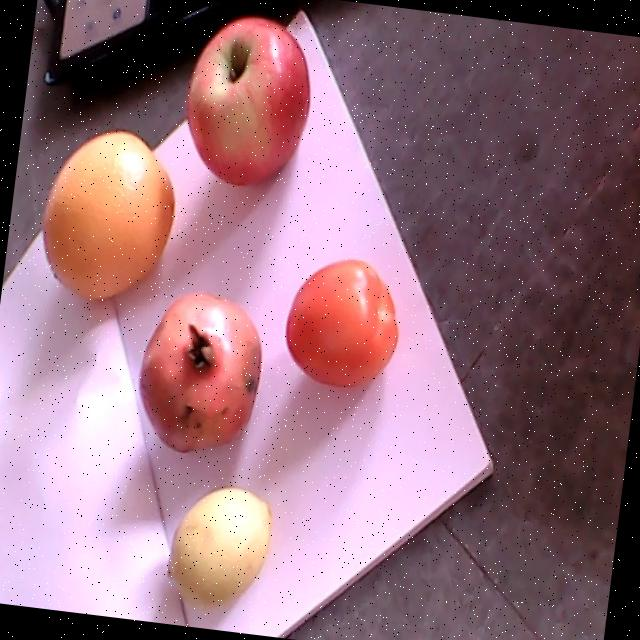apple: (187, 17, 310, 186)
lemon: (167, 488, 271, 605)
orange: (43, 130, 174, 300)
pomegranate: (139, 294, 262, 452)
tomato: (286, 259, 397, 385)
